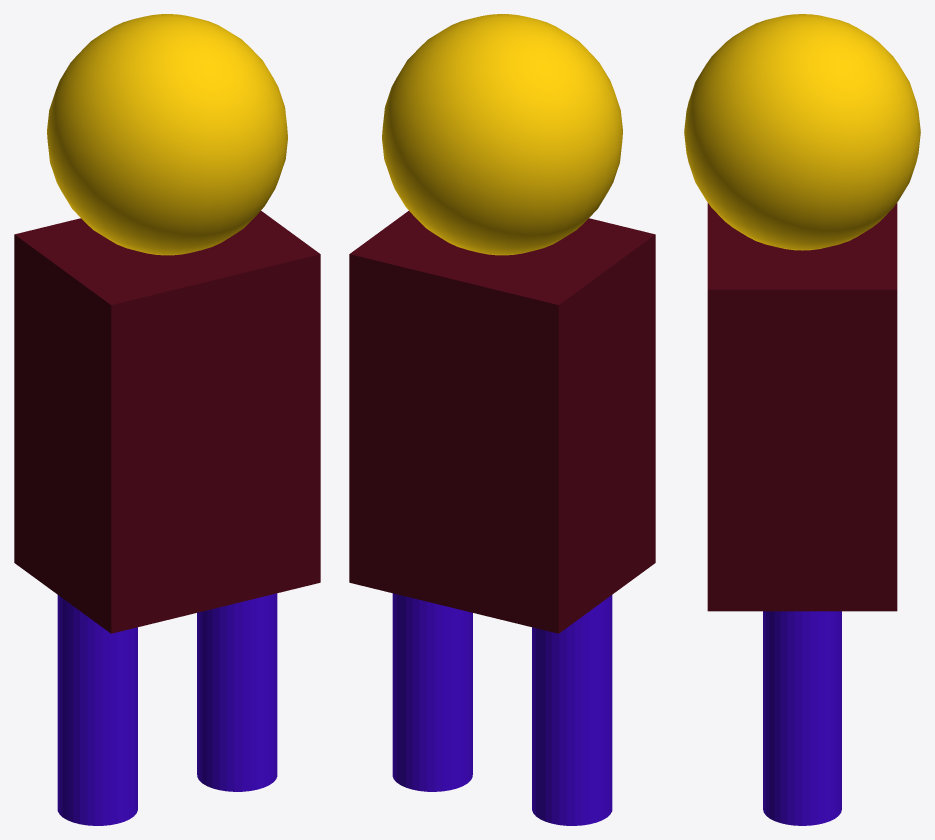
File: body5.dae
3 views of the same model, side by side, from view 1: azimuth 30°, elevation 25°; view 2: azimuth 150°, elevation 25°; view 3: azimuth 270°, elevation 25° (orthographic). The views are drawn at different scales.
Visible parts, largest first — view 1: Cube.001, Sphere.001, Cylinder.007, Cylinder.001; view 2: Cube.001, Sphere.001, Cylinder.007, Cylinder.001; view 3: Cube.001, Sphere.001, Cylinder.001.
Boxes of the visible parts, x1,y1,x2,y2 form: Cube.001: (14,211,320,633); Sphere.001: (47,14,287,255); Cylinder.007: (57,595,137,825); Cylinder.001: (197,593,277,791); Cube.001: (349,211,655,633); Sphere.001: (382,14,622,255); Cylinder.007: (532,595,612,825); Cylinder.001: (392,593,472,791); Cube.001: (707,203,897,611); Sphere.001: (684,14,920,250); Cylinder.001: (763,611,841,825).
Size of the model in its own units: 0.6 by 0.6 by 2.1.
